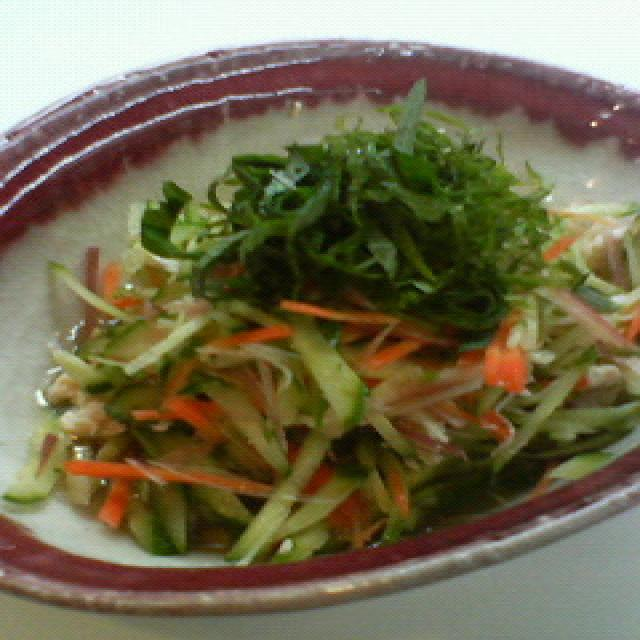牛肉菜式: (0, 20, 640, 624)
